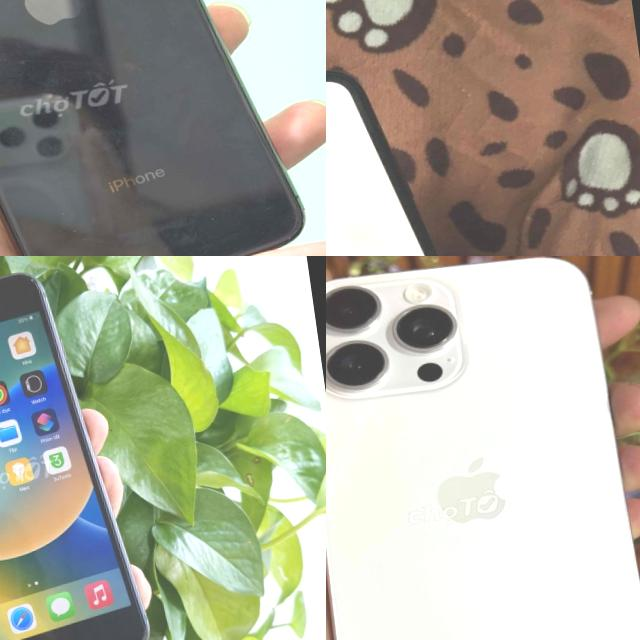gen_16: (326, 258, 640, 640)
gen_7_8: (0, 256, 161, 640)
gen_x_xs: (0, 0, 304, 256), (326, 43, 551, 256)
scratch: (29, 194, 99, 256), (180, 192, 242, 237), (32, 621, 157, 640), (26, 274, 38, 284)
